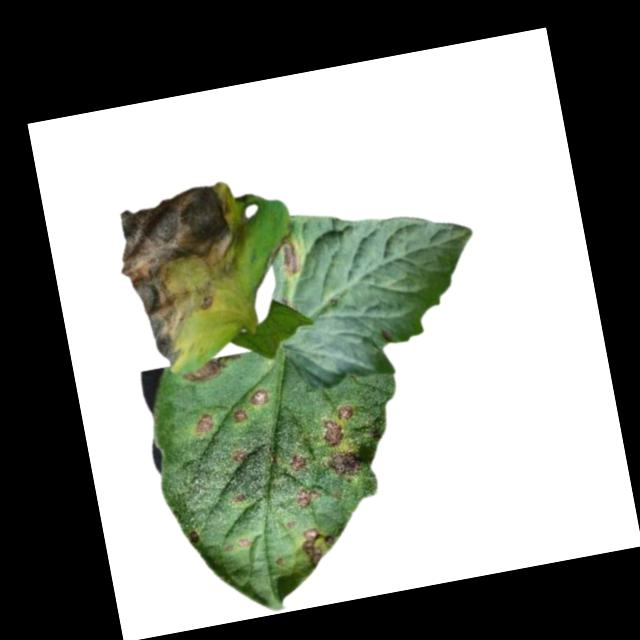Early_blight: (109, 177, 273, 372), (179, 355, 245, 390), (298, 522, 343, 573), (323, 449, 365, 478), (278, 239, 303, 283), (293, 483, 323, 512), (320, 416, 345, 450), (193, 413, 216, 439), (248, 386, 272, 410), (288, 451, 309, 472), (231, 448, 251, 466), (237, 535, 254, 552), (338, 405, 356, 421), (233, 410, 249, 425), (230, 492, 245, 506)
